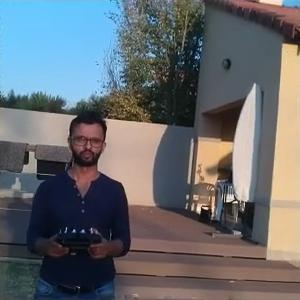follow: (20, 100, 134, 298)
